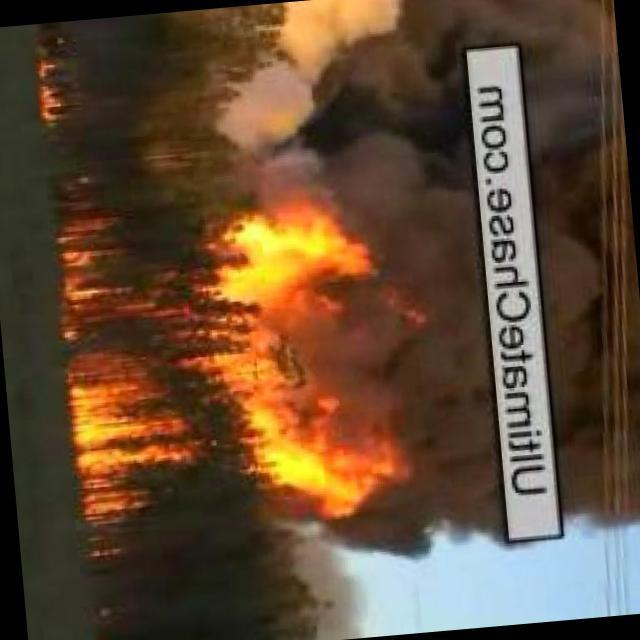Fire: (55, 204, 401, 523), (39, 51, 70, 129)
